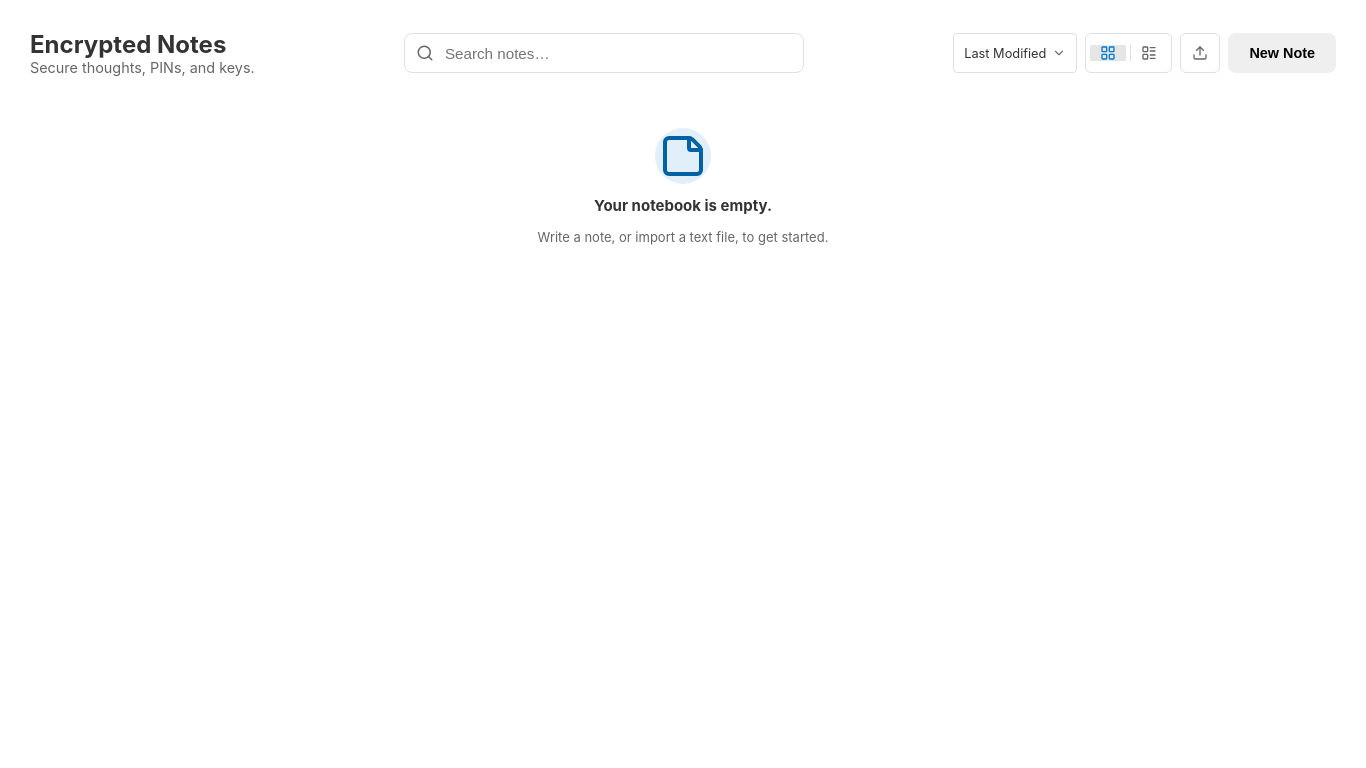
Test case: NotesView - writing notes › keeps the editor open and shows the error when saving fails
Click the button "New Note" at [1282, 53], box [1228,33,1336,73]
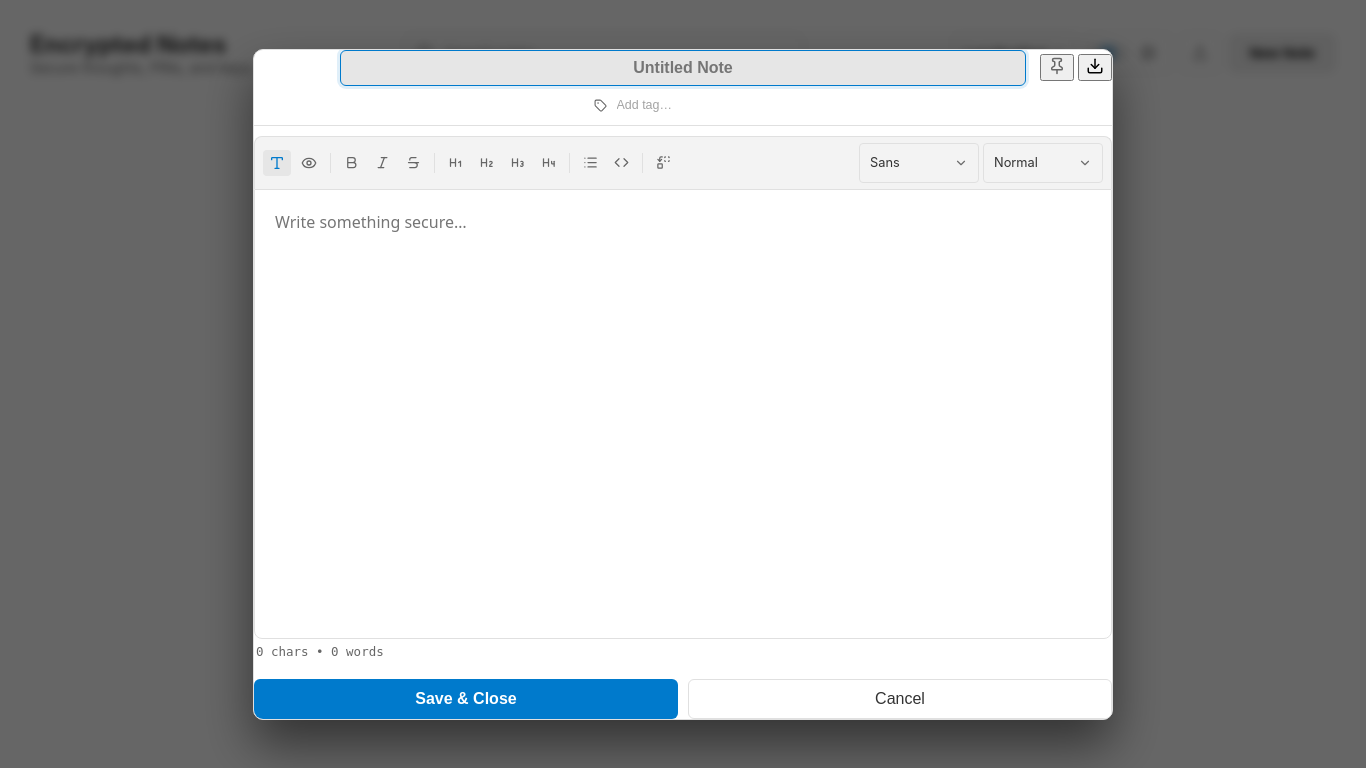
Type "Doomed" into the field with placeholder "Untitled Note" at [683, 68], box [340,50,1026,86]
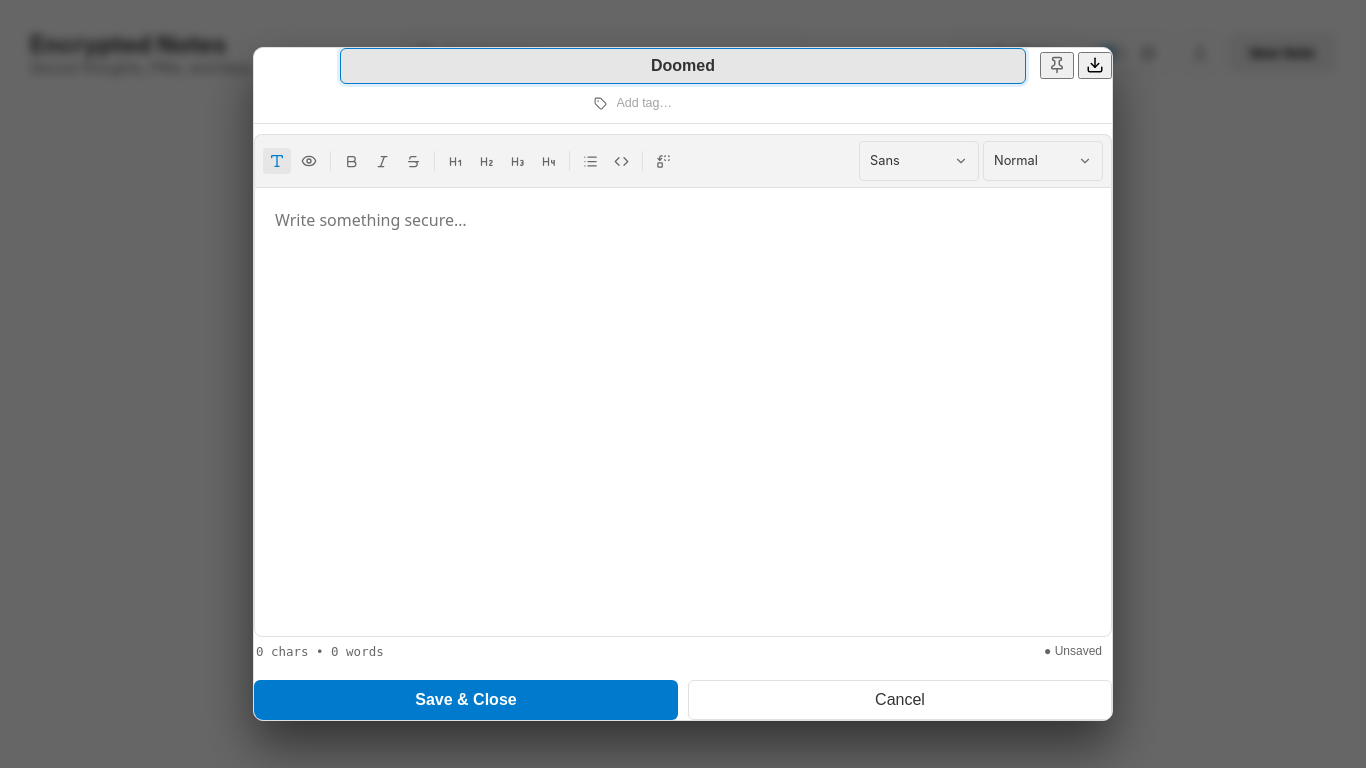
Click the button "Save & Close" at [466, 700], box [254,680,678,720]
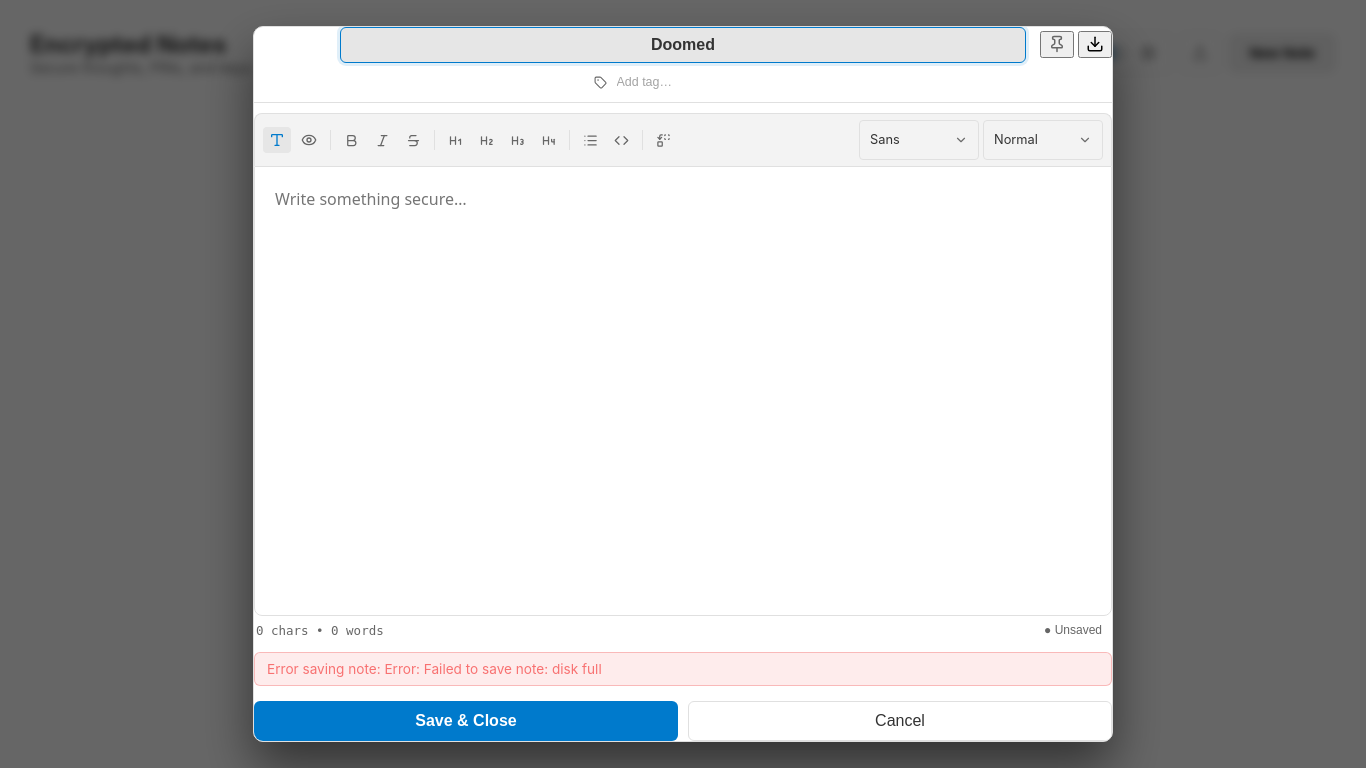
expect the text "Error saving note: Error: Failed to save note: disk full" is shown: met, box [254,652,1112,686]
